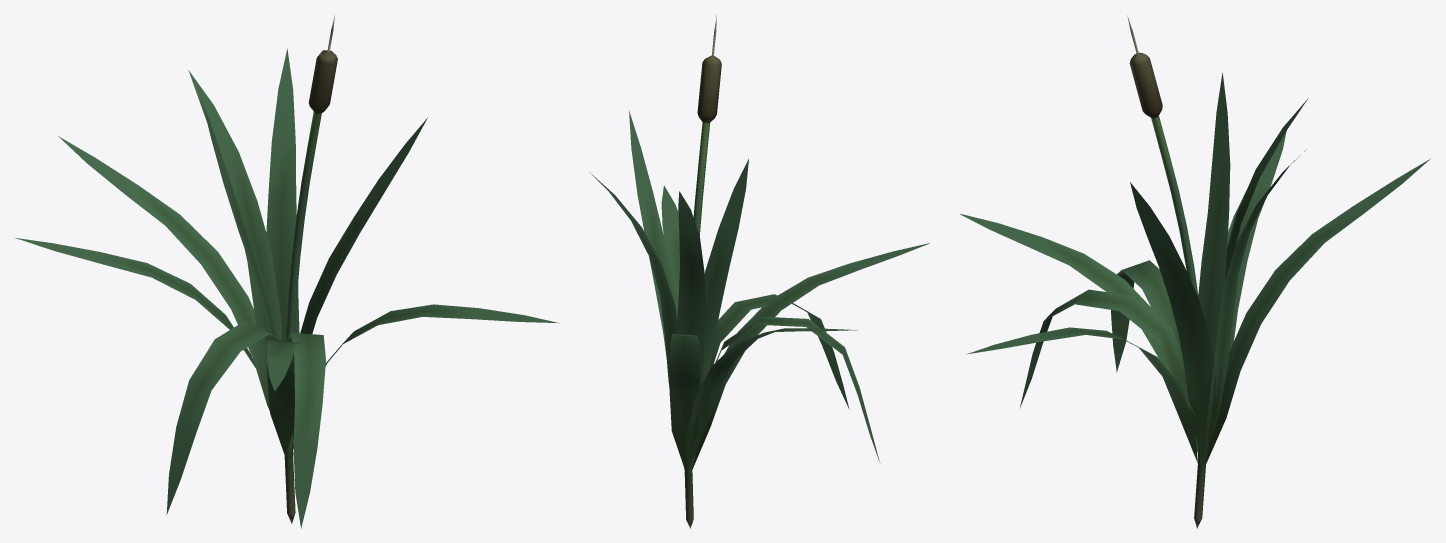
Rendered from plants-grasses-reeds-cattail_v5.glb.
The picture shows the model from 3 angles, left to right: view 1: azimuth 30°, elevation 25°; view 2: azimuth 150°, elevation 25°; view 3: azimuth 270°, elevation 25°; orthographic projection. The views are drawn at different scales.
Visible parts, largest first — view 1: Cattail_v5; view 2: Cattail_v5; view 3: Cattail_v5.
Part boxes in pixels (x1,y1,x2,y2): Cattail_v5: (14, 15, 559, 528); Cattail_v5: (589, 15, 929, 528); Cattail_v5: (960, 15, 1430, 528).
Bounding box in the file's own units: 1.11 × 1.5 × 1.24.
